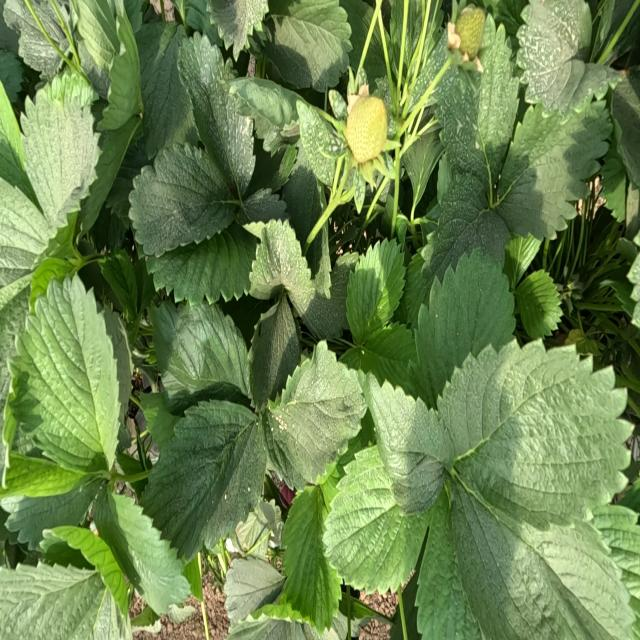Leaves: (443, 342, 628, 530), (140, 401, 266, 561), (18, 280, 119, 470), (404, 169, 508, 323), (499, 99, 611, 238), (415, 249, 515, 399), (325, 447, 424, 592), (265, 345, 364, 487), (437, 34, 517, 192), (178, 34, 254, 193), (94, 492, 190, 614), (367, 375, 451, 513), (130, 143, 234, 254), (21, 80, 99, 228), (518, 0, 620, 111), (152, 304, 248, 411), (0, 562, 132, 639), (2, 456, 104, 548), (147, 220, 257, 302), (417, 506, 482, 639), (282, 488, 341, 632), (135, 23, 193, 158), (264, 1, 351, 90), (475, 21, 518, 179), (389, 0, 447, 116), (591, 504, 640, 637), (45, 525, 127, 601), (82, 119, 137, 231), (0, 177, 54, 288), (347, 239, 404, 344), (99, 248, 156, 345), (250, 295, 299, 407), (341, 325, 417, 393), (3, 0, 67, 78), (301, 254, 357, 339), (265, 220, 314, 314), (298, 102, 346, 186), (225, 557, 282, 624), (230, 77, 302, 127), (100, 45, 142, 129), (73, 0, 120, 71), (515, 270, 562, 339), (0, 289, 28, 402), (402, 129, 443, 205), (211, 1, 267, 54), (612, 80, 639, 187), (1, 83, 27, 193), (283, 165, 324, 233), (233, 501, 281, 559), (339, 0, 373, 72), (600, 135, 626, 222), (504, 235, 541, 290), (141, 393, 177, 449), (242, 189, 286, 223), (314, 226, 331, 298)
Strawberries: (345, 95, 387, 163), (455, 6, 485, 59), (448, 24, 459, 51)
